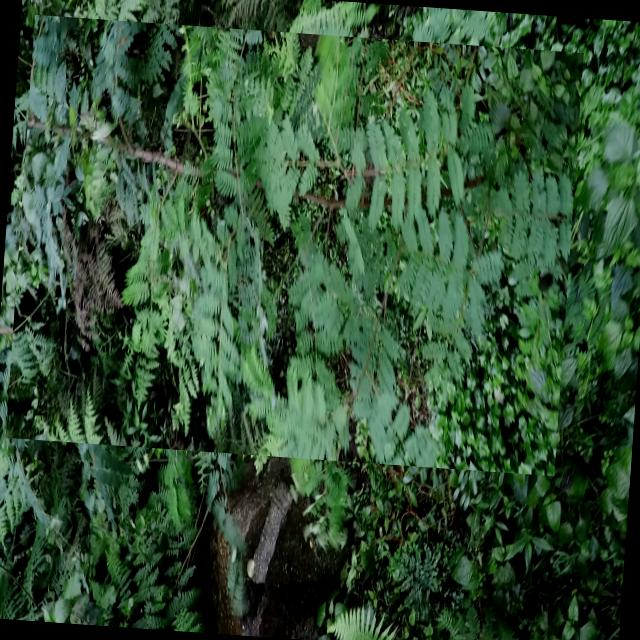Mysore-Thorn-Weed: (5, 15, 583, 476)
